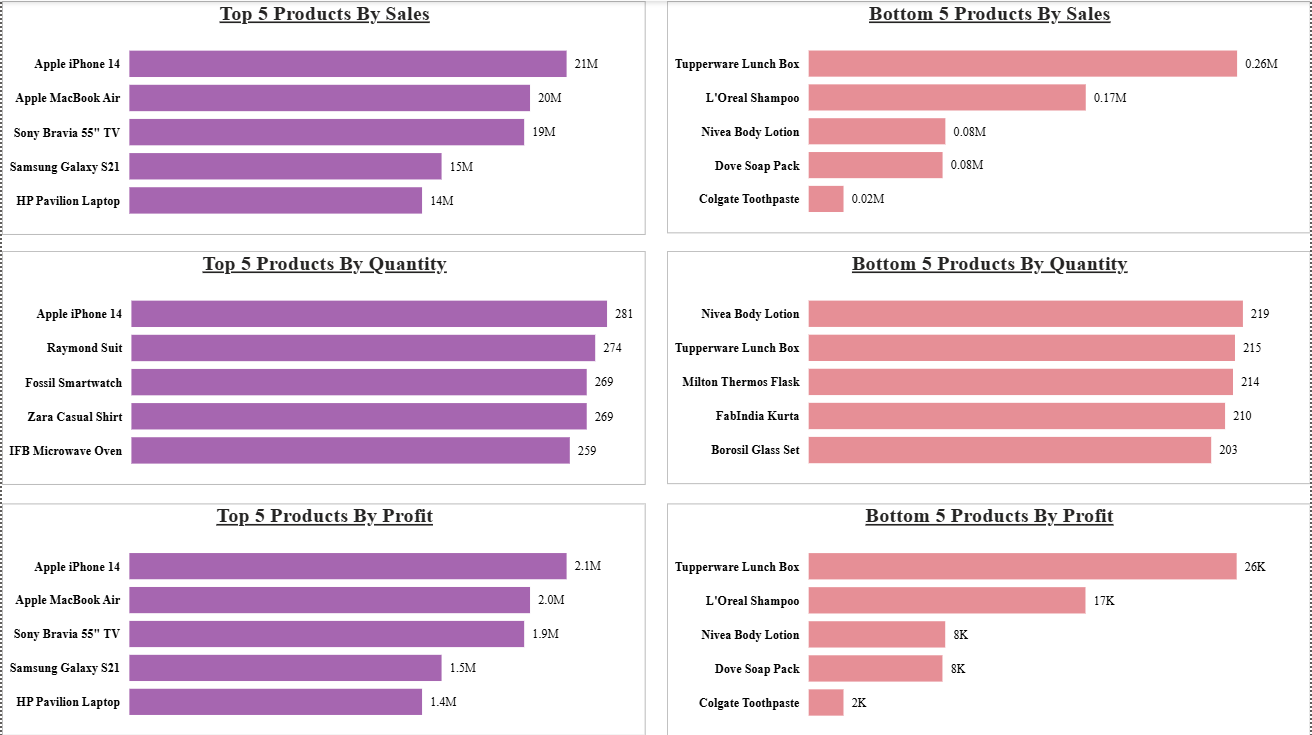

Layout of this report page (visuals, bound fields, positions):
{"tool":"powerbi","page":{"name":"Top/Bottom 5 Analysis","canvas":[1280,720],"ordinal":1},"visuals":[{"type":"barChart","title":"Top 5 Products By Sales","fields":{"Category":["Dim Product.Product Name"],"Y":["Sum(Fact Table.Net Sales)"]},"box":[0,0,629.8,228.7],"z":0},{"type":"barChart","title":"Bottom 5 Products By Sales","fields":{"Category":["Dim Product.Product Name"],"Y":["Sum(Fact Table.Net Sales)"]},"box":[650.3,0,629.9,227],"z":1000},{"type":"barChart","title":"Top 5 Products By Quantity","fields":{"Category":["Dim Product.Product Name"],"Y":["Sum(Fact Table.Units Sold)"]},"box":[0,244.6,629.8,228.7],"z":2000},{"type":"barChart","title":"Bottom 5 Products By Quantity","fields":{"Category":["Dim Product.Product Name"],"Y":["Sum(Fact Table.Units Sold)"]},"box":[650.3,244.8,629.9,228.3],"z":3000},{"type":"barChart","title":"Top 5 Products By Profit","fields":{"Category":["Dim Product.Product Name"],"Y":["Sum(Fact Table.Profit)"]},"box":[0,491.6,629.8,227.4],"z":4000},{"type":"barChart","title":"Bottom 5 Products By Profit","fields":{"Category":["Dim Product.Product Name"],"Y":["Sum(Fact Table.Profit)"]},"box":[650.9,491.6,629.4,228.2],"z":5000}]}

Visuals, with their boxes in screenshot pixels (x1, y1, x2, y2), scaled from the page's 1280x720 canvas onto the 1312x735 screenshot:
"Top 5 Products By Sales" barChart: bbox=[0, 0, 646, 233]
"Bottom 5 Products By Sales" barChart: bbox=[667, 0, 1311, 232]
"Top 5 Products By Quantity" barChart: bbox=[0, 250, 646, 483]
"Bottom 5 Products By Quantity" barChart: bbox=[667, 250, 1311, 483]
"Top 5 Products By Profit" barChart: bbox=[0, 502, 646, 734]
"Bottom 5 Products By Profit" barChart: bbox=[667, 502, 1311, 734]
